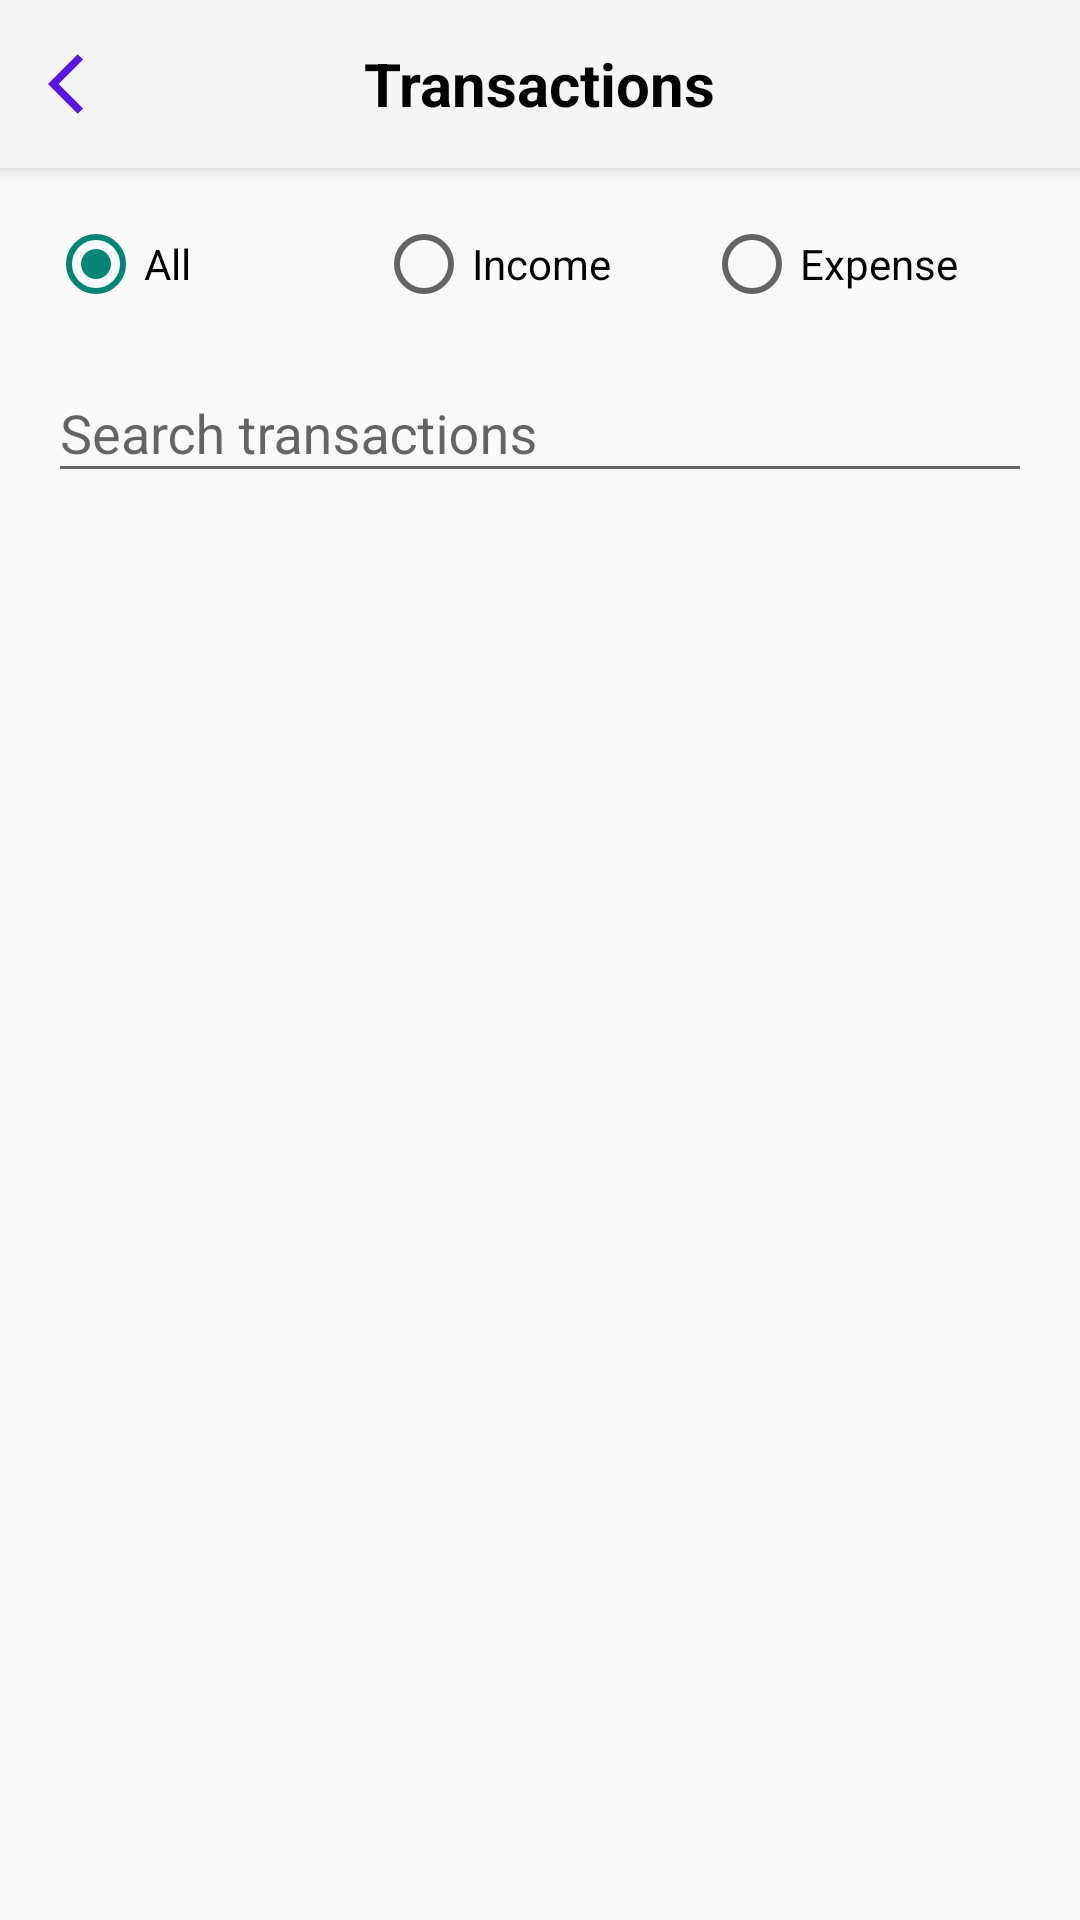

Named icons in this screenshot (1080×1920) and their centers, (x=x, y=y):
arrow back: (x=65, y=84)
